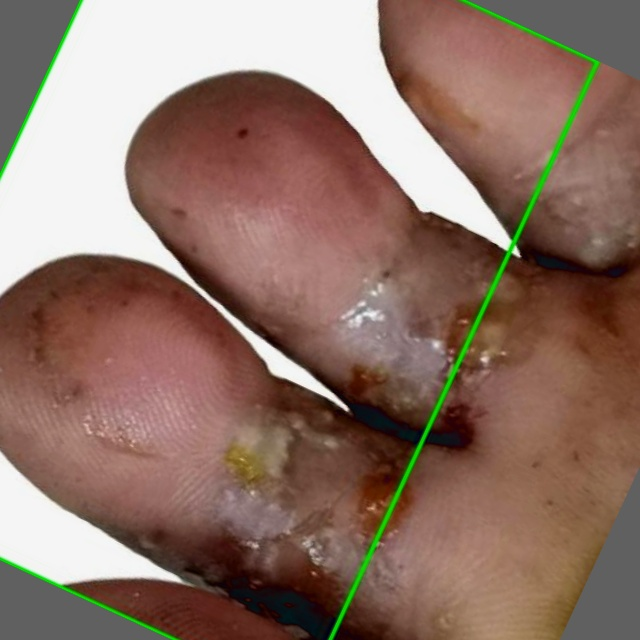Scabies: (0, 0, 597, 639)
